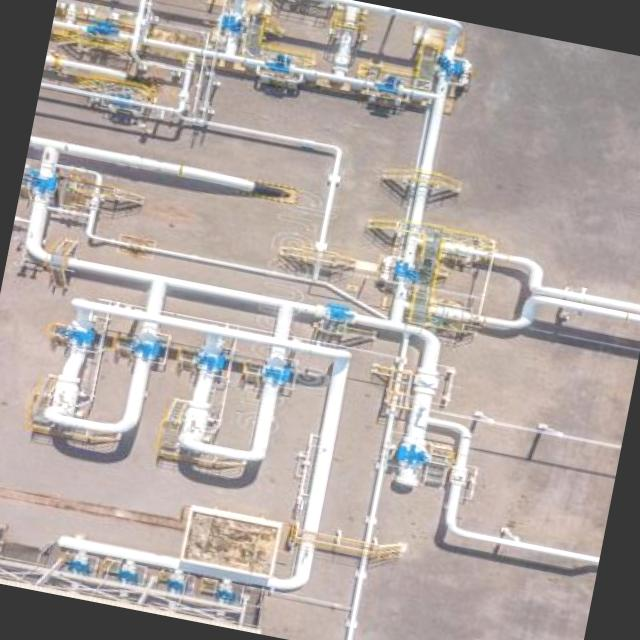gas: (16, 248, 446, 341), (51, 15, 447, 106), (384, 24, 464, 334), (339, 332, 414, 640), (62, 294, 350, 362), (279, 346, 354, 594), (53, 530, 310, 597), (27, 136, 287, 202), (82, 232, 318, 288), (370, 324, 446, 491), (65, 0, 460, 27), (242, 298, 296, 462), (114, 282, 168, 432), (438, 409, 622, 452), (38, 296, 96, 426), (430, 524, 599, 568), (180, 116, 341, 156), (16, 137, 67, 262), (432, 426, 480, 537), (39, 80, 178, 118), (516, 277, 640, 316), (179, 342, 220, 452), (311, 146, 343, 281), (522, 290, 640, 324), (430, 296, 530, 334), (43, 56, 151, 88), (325, 0, 365, 86), (437, 244, 542, 276), (36, 410, 130, 440), (179, 437, 267, 467), (504, 291, 546, 334), (83, 170, 105, 242), (425, 418, 470, 448), (126, 0, 150, 54), (174, 58, 197, 112), (50, 161, 106, 177), (518, 262, 545, 295), (13, 215, 28, 223)
